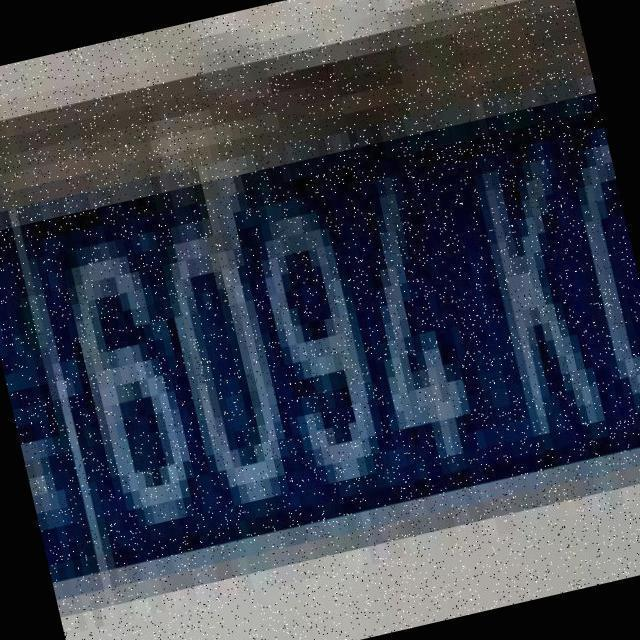license-plate: (5, 93, 636, 550)
